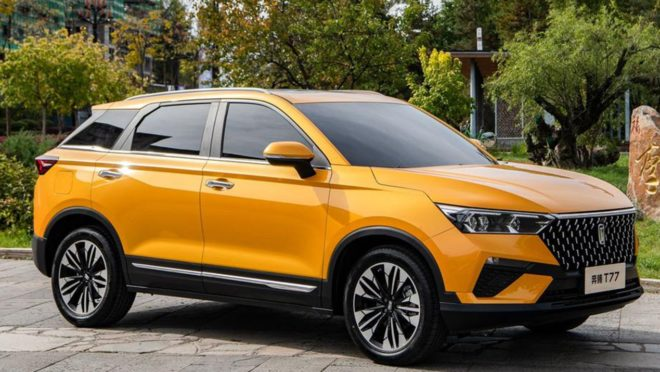Carro: (27, 89, 646, 363)
